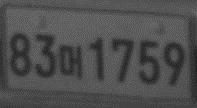1: (90, 35, 105, 81)
3: (34, 33, 56, 77)
5: (139, 39, 161, 84)
7: (111, 37, 134, 82)
8: (9, 33, 32, 76)
9: (164, 41, 185, 86)
머: (59, 44, 83, 79)
